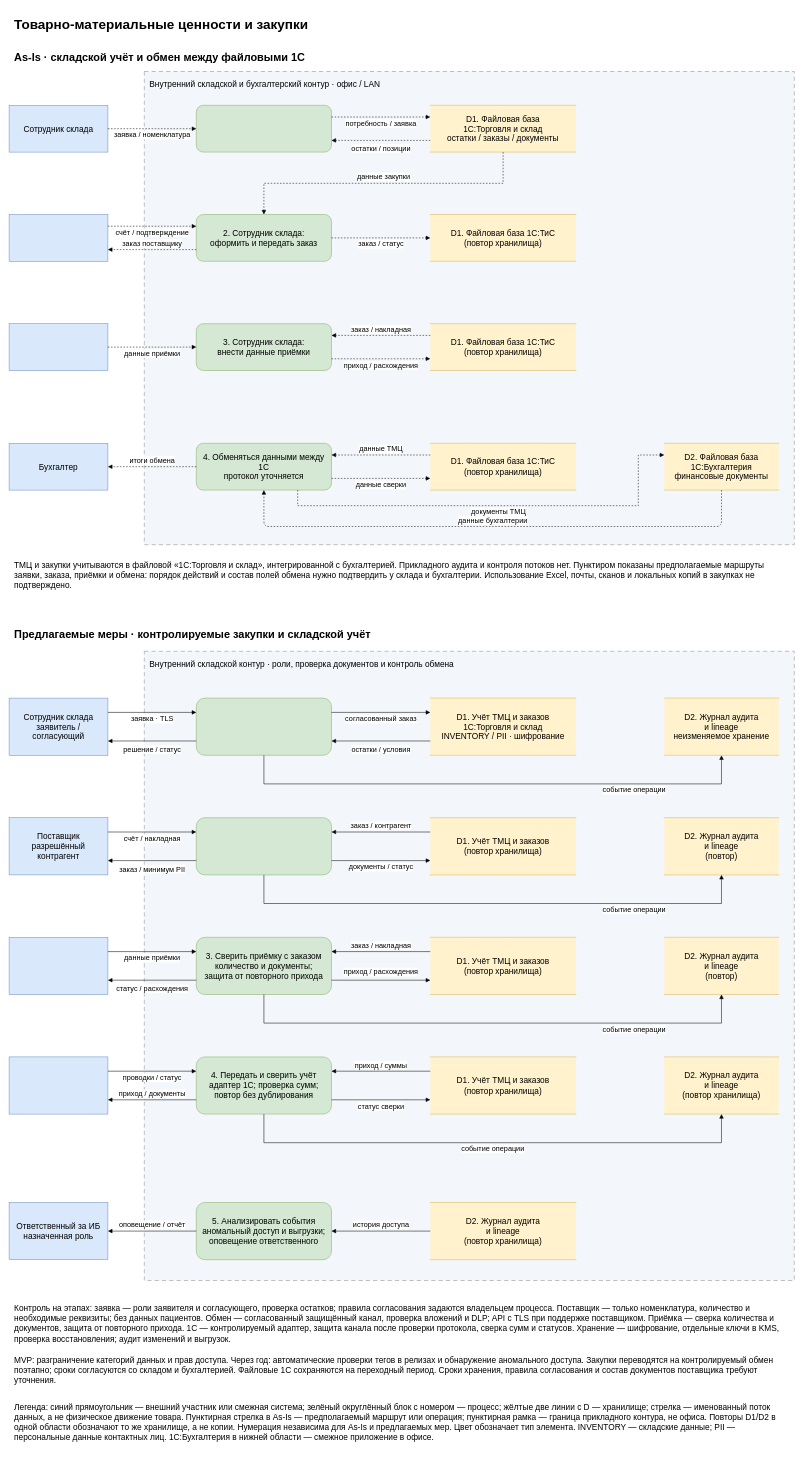
This 803x1468 diagram has some shape labels left out. Here are the shapes that lost their labels. From the top down, the centre of each, then its label:
point 264,128: 1. Внести потребность и проверить остатки в 1С
point 58,237: Поставщик внешний участник
point 58,346: Сотрудник склада (повтор участника)
point 264,726: 1. Проверить заявку остатки; роли согласования; минимум данных; теги
point 264,846: 2. Обменяться документами проверка контрагента; разрешённые поля и каналы
point 58,965: Сотрудник склада приёмка товара
point 58,1085: 1С:Бухгалтерия смежная система в офисе
